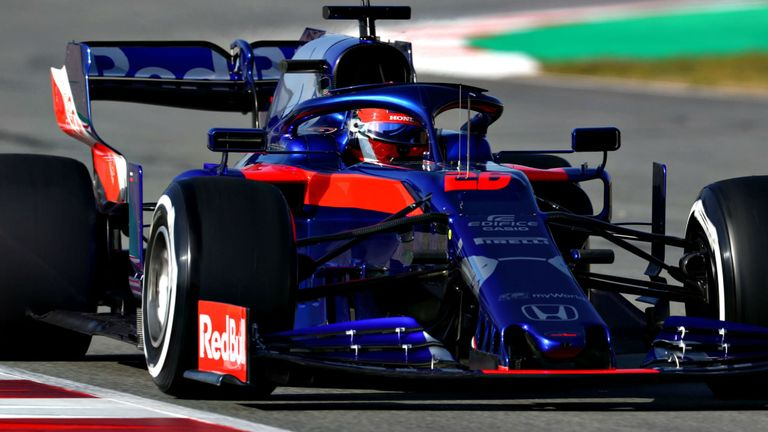f1_car: (2, 2, 767, 410)
